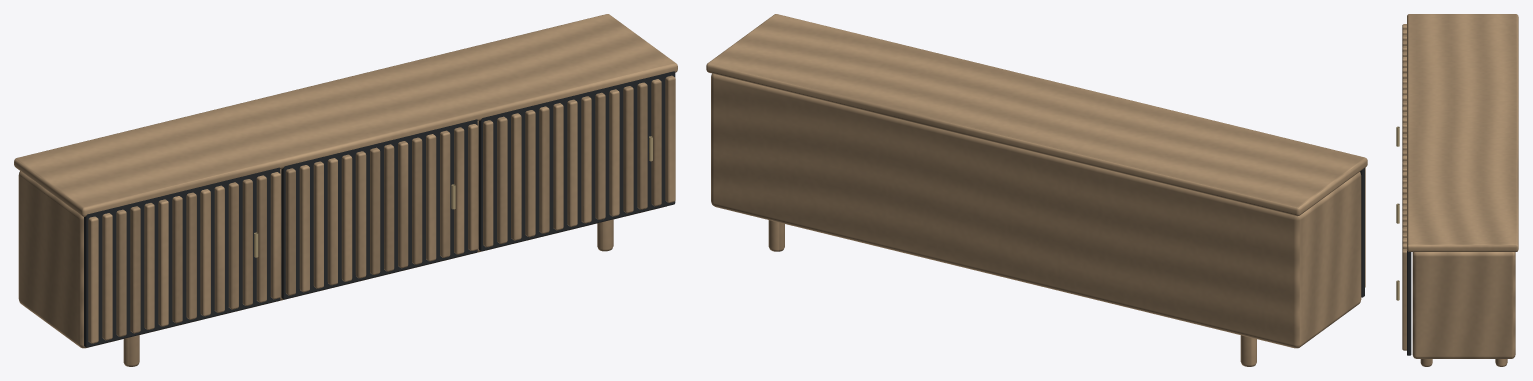
File: tv_console.glb
3 views of the same model, side by side, from view 1: azimuth 30°, elevation 25°; view 2: azimuth 150°, elevation 25°; view 3: azimuth 270°, elevation 25° (orthographic). The views are drawn at different scales.
Visible parts, largest first — view 1: 家具_tv_console; view 2: 家具_tv_console; view 3: 家具_tv_console.
Boxes of the visible parts, left/top/right/bottom form: 家具_tv_console: left=14, top=14, right=677, bottom=366; 家具_tv_console: left=706, top=14, right=1367, bottom=366; 家具_tv_console: left=1396, top=14, right=1518, bottom=366.
Size of the model in its own units: 1.8 by 0.52 by 0.4.
Materials: 3 (1 with a texture image).
